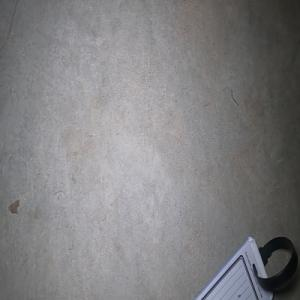LuggageTag: (191, 234, 298, 300)
